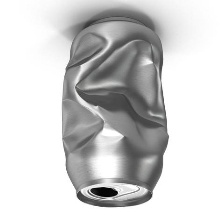can: (58, 12, 174, 210)
